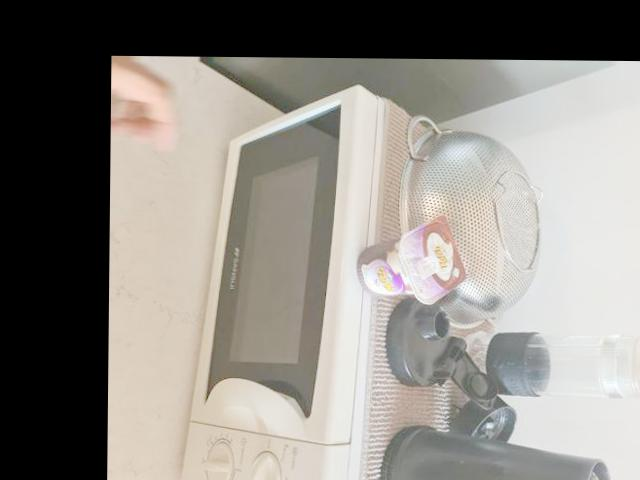milky: (358, 223, 469, 303)
